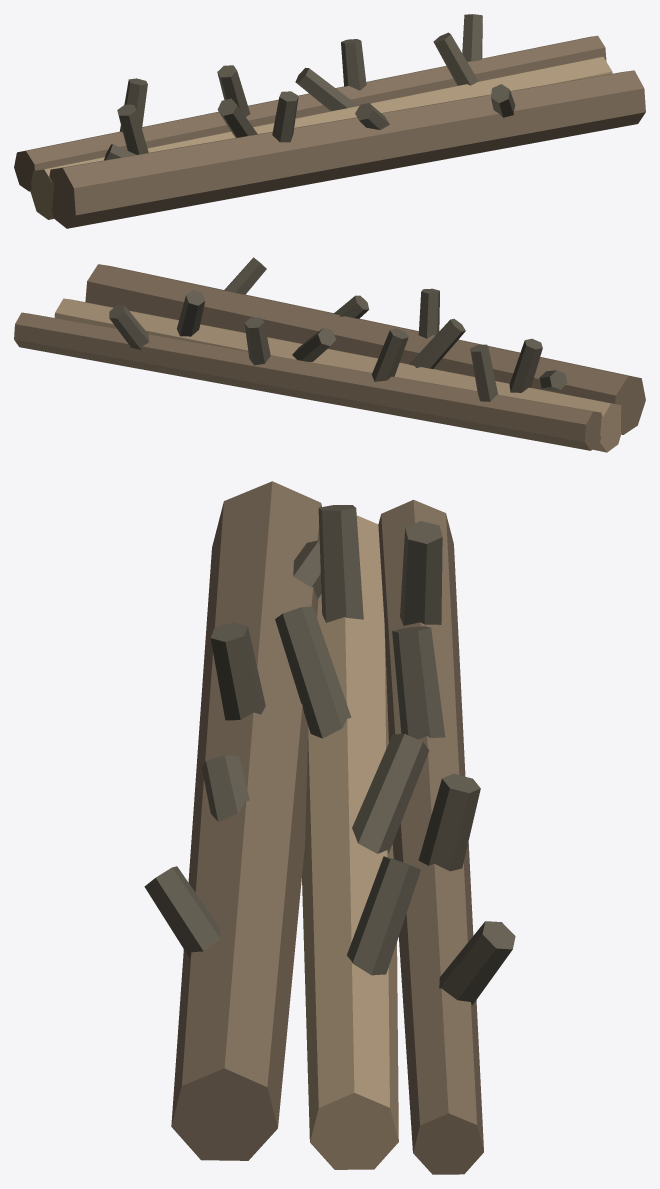
The model's file is driftwood_a.glb.
3 renders of one model, top to bottom at view 1: azimuth 30°, elevation 25°; view 2: azimuth 150°, elevation 25°; view 3: azimuth 270°, elevation 25°, orthographic. The views are drawn at different scales.
Visible parts, largest first — view 1: driftwood_a LOD0; view 2: driftwood_a LOD0; view 3: driftwood_a LOD0.
Boxes of the visible parts, left/top/right/bottom form: driftwood_a LOD0: left=14, top=14, right=645, bottom=228; driftwood_a LOD0: left=14, top=257, right=645, bottom=452; driftwood_a LOD0: left=144, top=481, right=515, bottom=1174.
Size of what is drawn, in the model's own units: 3.15 by 0.5832 by 0.8953.
